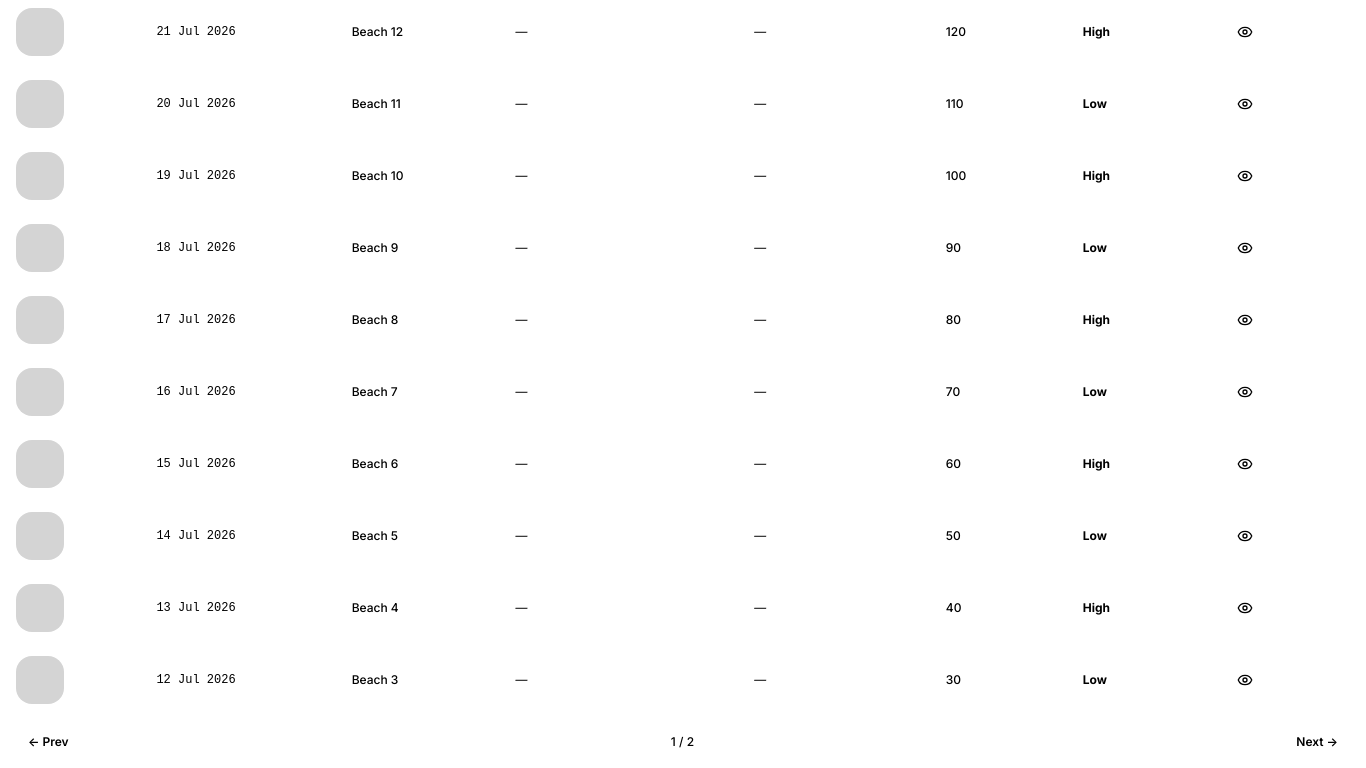
Test: HistoryTable — pagination › navigates to next page on Next → click
(page scrolled)
Click the button "Next →".
click(1317, 742)  # box [1284,728,1350,756]
(page scrolled)
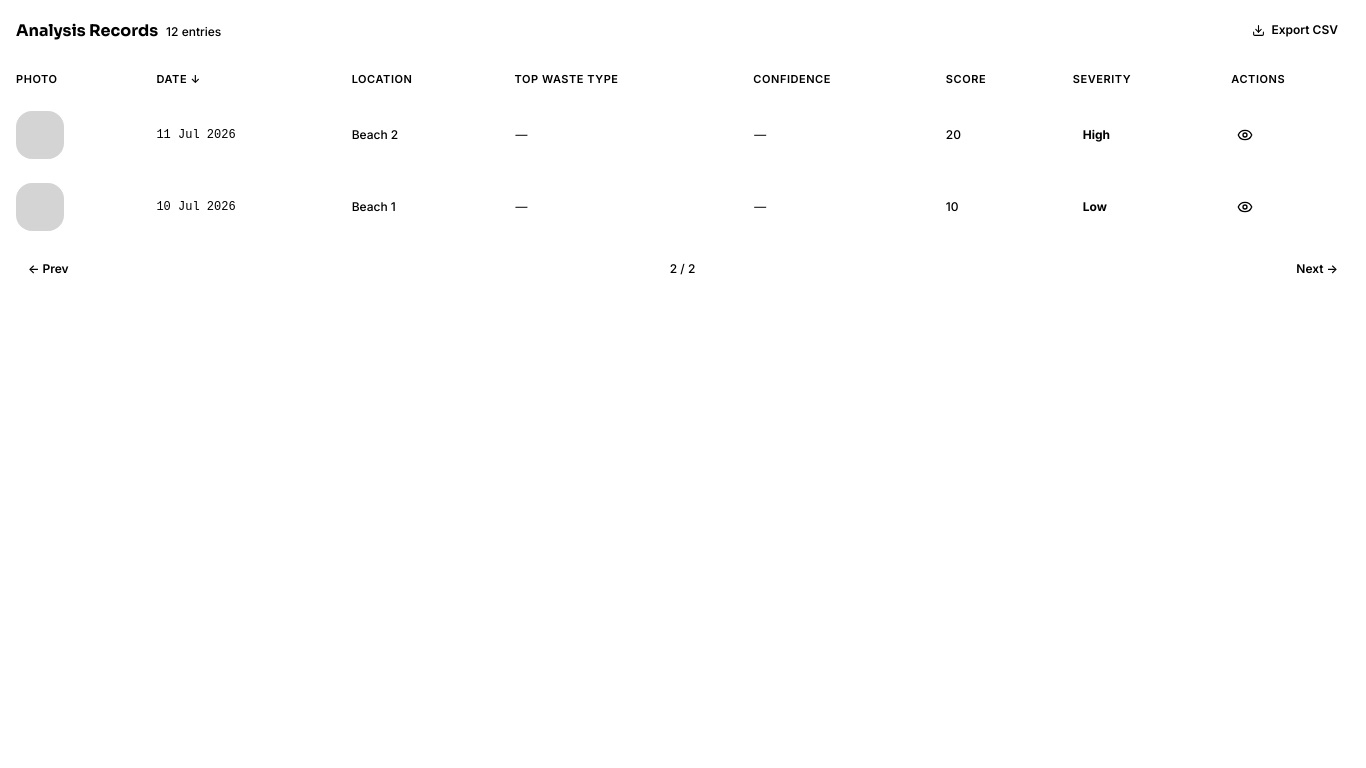
Result: the text "2 / 2" is shown at [670,261,695,277]
